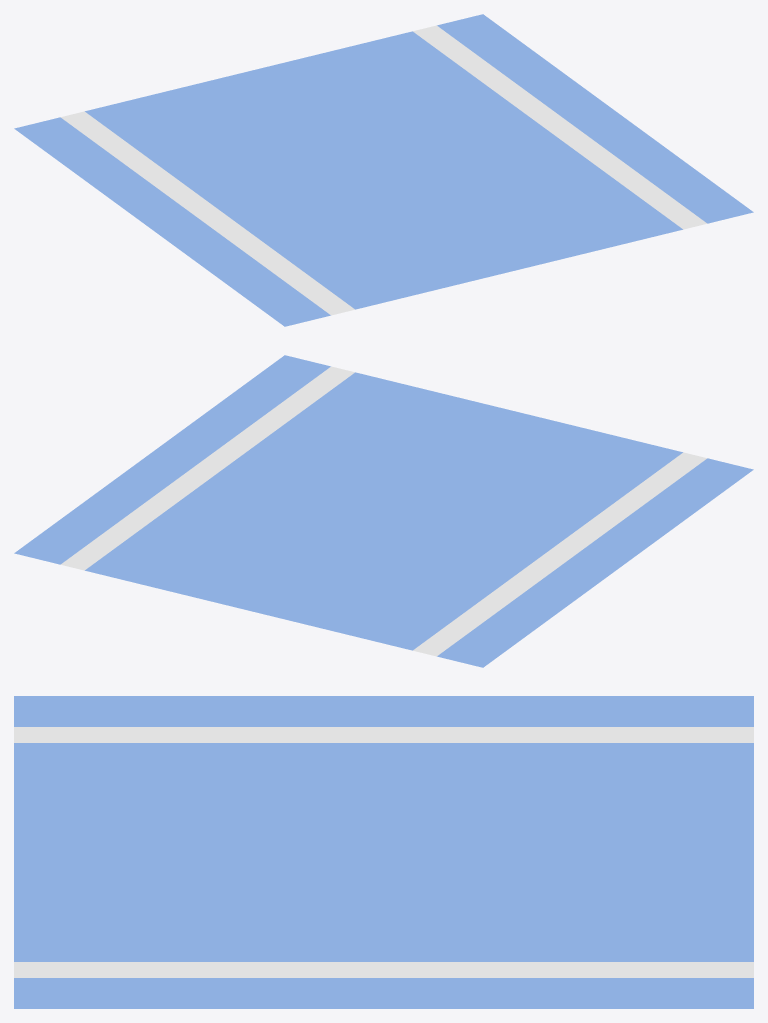
Rendered from stage4_carpet.fbx.
The picture shows the model from 3 angles, top to bottom: view 1: azimuth 30°, elevation 25°; view 2: azimuth 150°, elevation 25°; view 3: azimuth 270°, elevation 25°; orthographic projection. The views are drawn at different scales.
Parts seen in each view (by area): view 1: carpet; view 2: carpet; view 3: carpet.
Part boxes in pixels (<box>): carpet: <box>14,14,753,326</box>; carpet: <box>14,355,753,667</box>; carpet: <box>14,696,753,1008</box>.
Bounding box in the file's own units: 200 × 3.26e-05 × 200.
